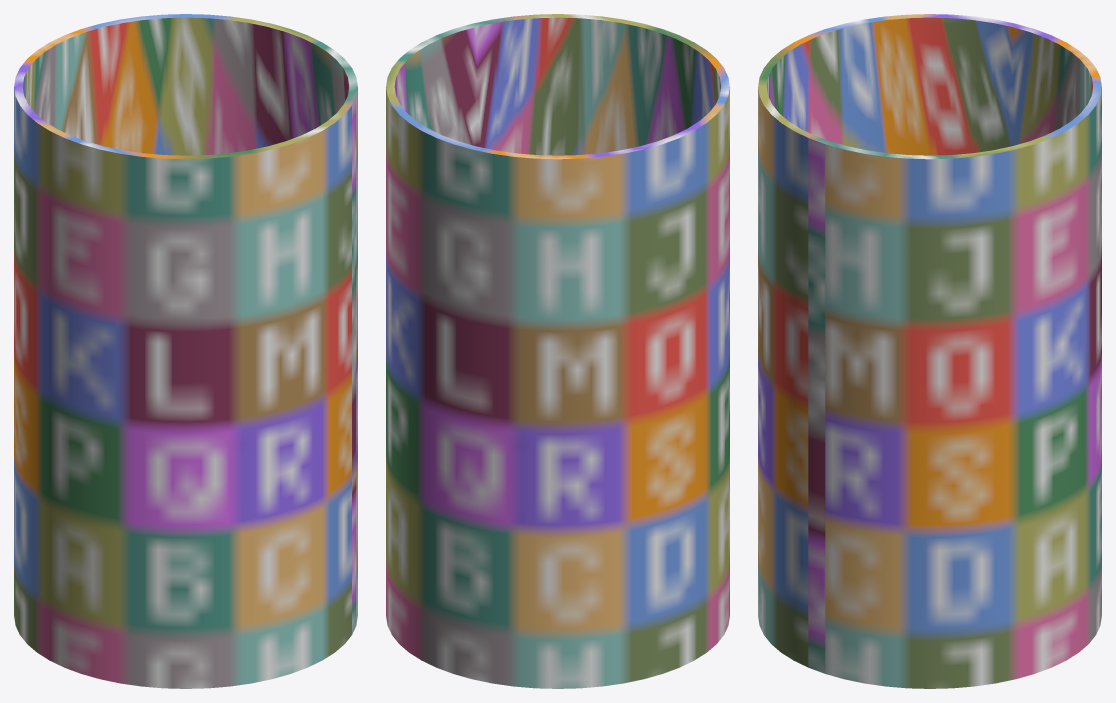
The model's file is falcon92ndstageshell.obj.
3 views of the same model, side by side, from view 1: azimuth 30°, elevation 25°; view 2: azimuth 150°, elevation 25°; view 3: azimuth 270°, elevation 25° (orthographic).
Parts seen in each view (by area): view 1: Tube1; view 2: Tube1; view 3: Tube1.
Boxes of the visible parts, box(x1,y1,x2,y2) form: Tube1: box(14, 14, 357, 688); Tube1: box(386, 14, 729, 688); Tube1: box(758, 14, 1101, 688).
Size of the model in its own units: 10 by 17 by 10.
Materials: 1 (1 with a texture image).
